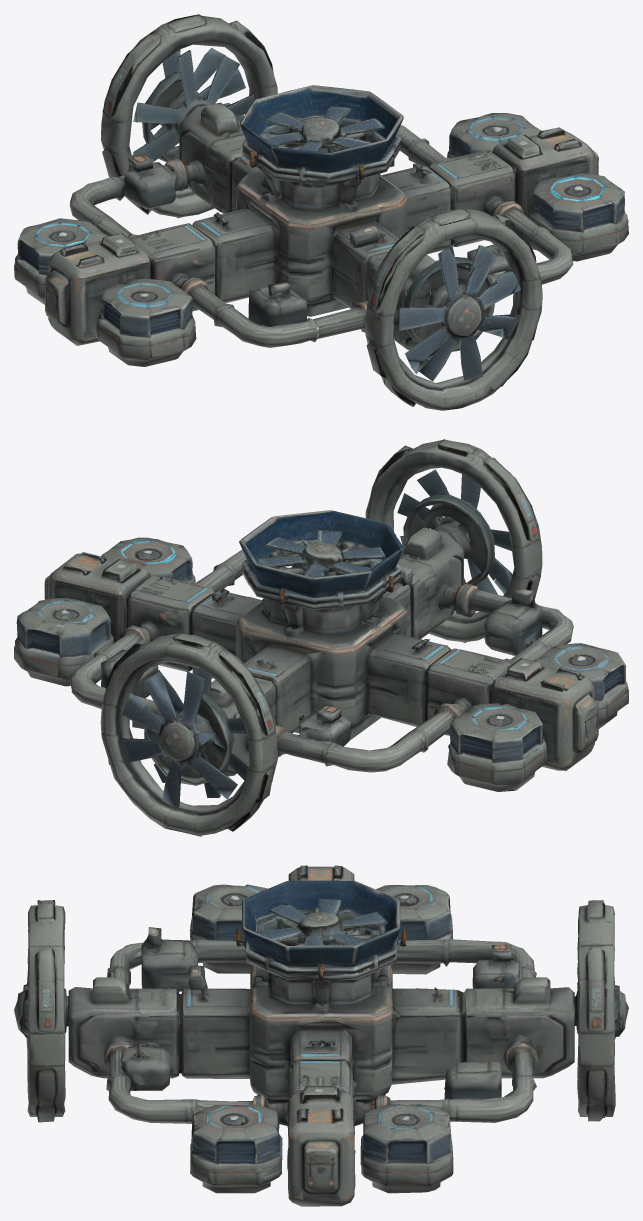
Rendered from Casa1.glb.
3 views of the same model, one above another, from view 1: azimuth 30°, elevation 25°; view 2: azimuth 150°, elevation 25°; view 3: azimuth 270°, elevation 25° (orthographic). The views are drawn at different scales.
Visible parts, largest first — view 1: tripo_node_e97a4e8a-36d3-47ea-89ac-18c2f69e964a; view 2: tripo_node_e97a4e8a-36d3-47ea-89ac-18c2f69e964a; view 3: tripo_node_e97a4e8a-36d3-47ea-89ac-18c2f69e964a.
Part boxes in pixels (x1=…): tripo_node_e97a4e8a-36d3-47ea-89ac-18c2f69e964a: x1=14, y1=14, x2=628, y2=410; tripo_node_e97a4e8a-36d3-47ea-89ac-18c2f69e964a: x1=14, y1=439, x2=628, y2=836; tripo_node_e97a4e8a-36d3-47ea-89ac-18c2f69e964a: x1=14, y1=865, x2=628, y2=1206.
Size of the model in its own units: 0.9782 by 0.3304 by 0.9209.
1 material, 1 textured.
